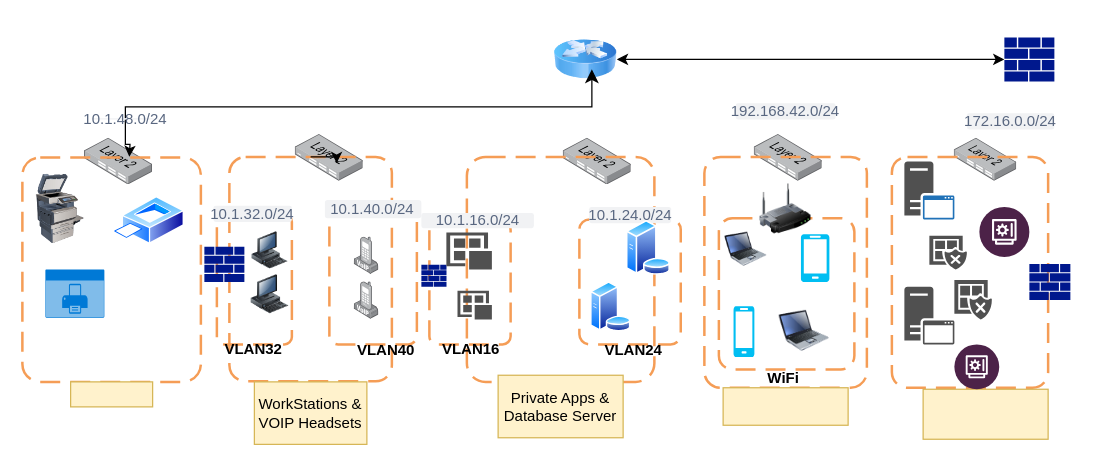
Image size: 1093x466. Some labels were removed from this diagram. Here are the shapes that lost their labels. From the top down, the centre of each, then its label:
At [74,293]: "Print".
At [111,394]: "Printers".
At [785,405]: "Guest Network".
At [985,413]: "Public Apps Server".
